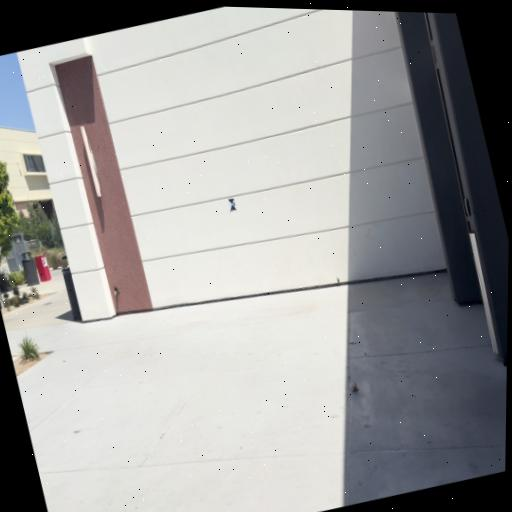target0: (227, 197, 237, 212)
